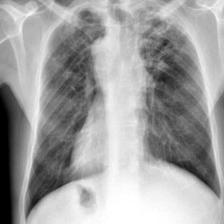tuberculosis: (17, 2, 224, 222)
